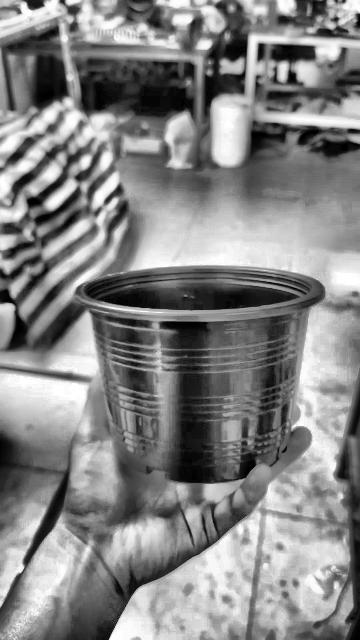pot: (75, 262, 324, 483)
